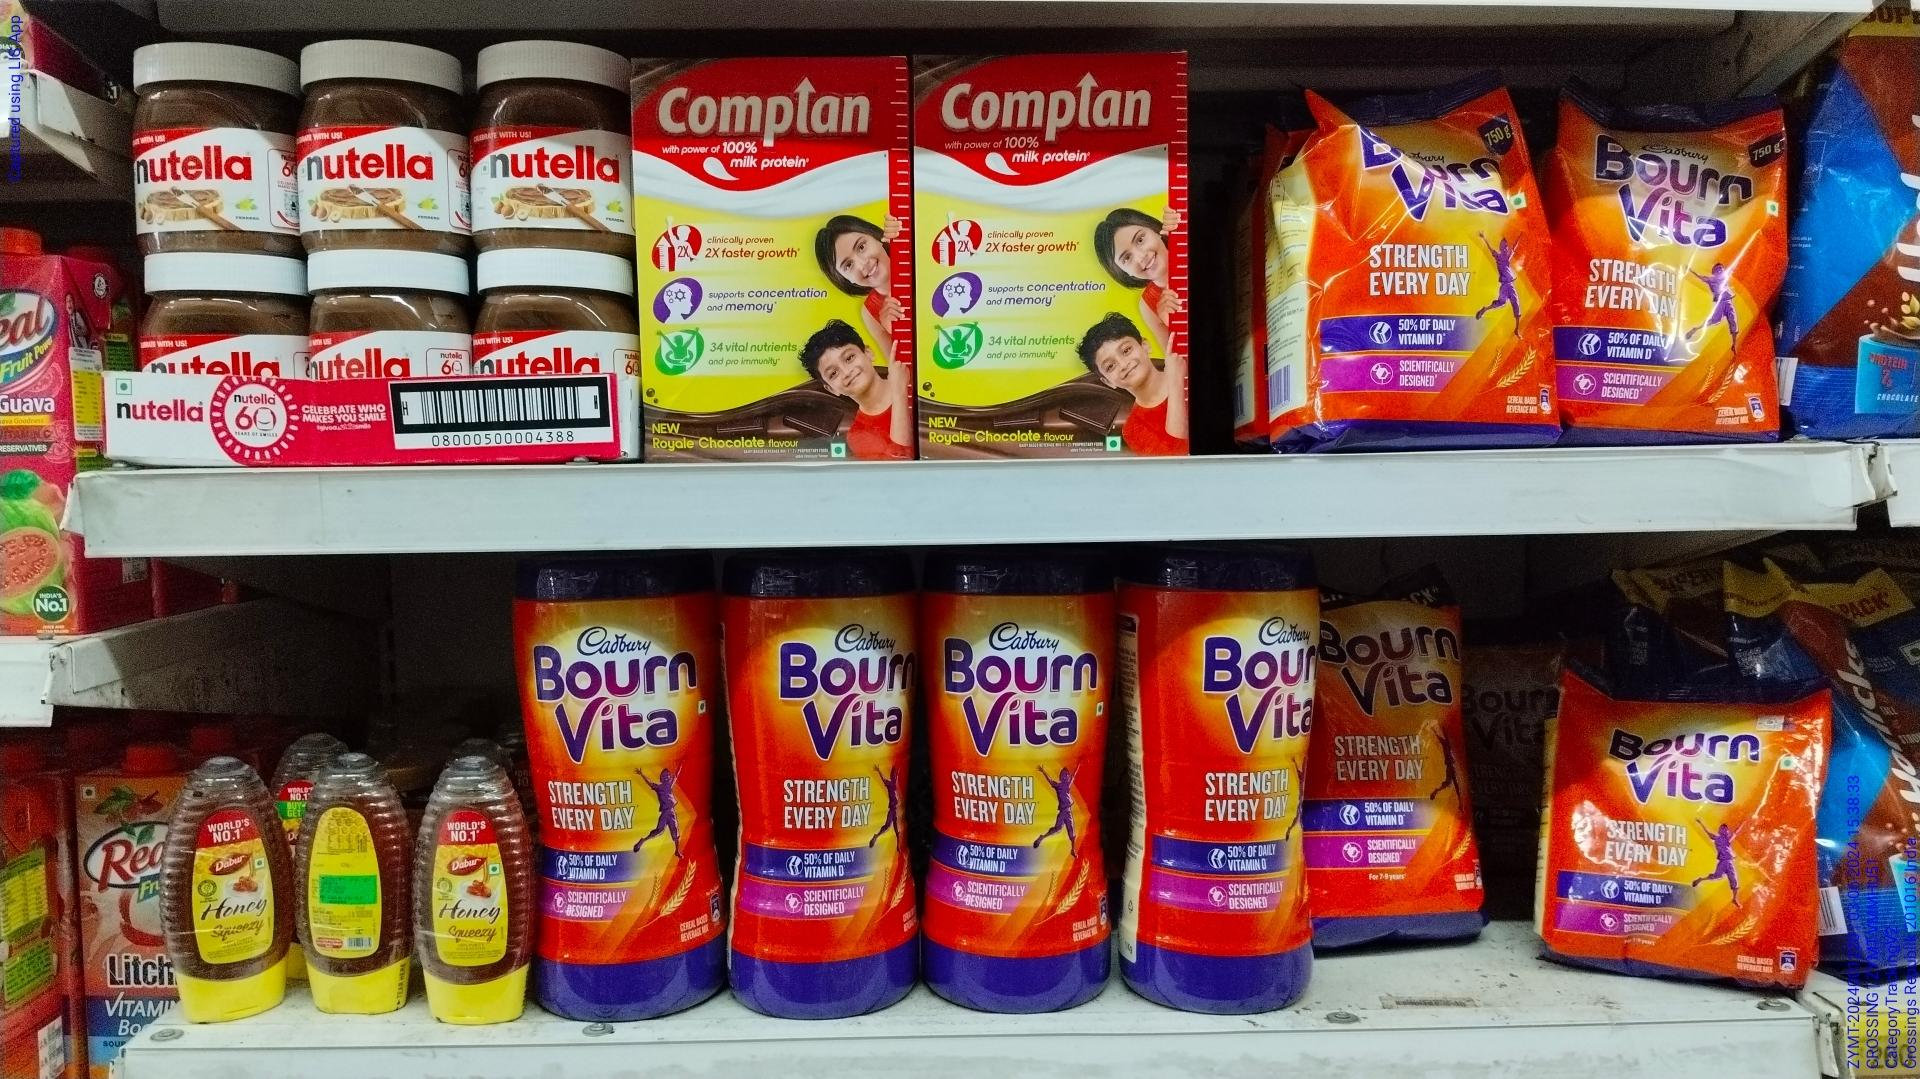BOURN_VITA_1_KG_JAR: (725, 562, 915, 1026), (1120, 563, 1311, 1017), (539, 558, 724, 1022), (923, 562, 1118, 996)
BOURN_VITA_500_G_POUCH: (1528, 625, 1808, 987), (1325, 571, 1491, 939)
BOURN_VITA_750_G_POUCH: (1286, 83, 1551, 437), (1553, 83, 1778, 442)
COMPLAN_CHOCOLATE_500_GMS_PACK: (633, 66, 910, 464), (909, 61, 1187, 456)
